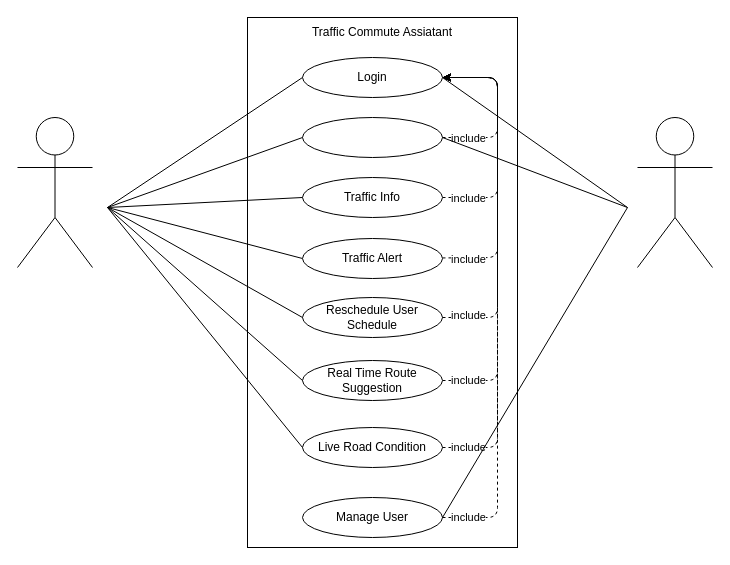
Image size: 730x565. Some labels were removed from this diagram. The shapes that lost their labels are listed below. From the top down, each one's centre as x and y in pixels, then its label:
point 372,137: Set User Info
point 54,192: User
point 674,192: Admin
